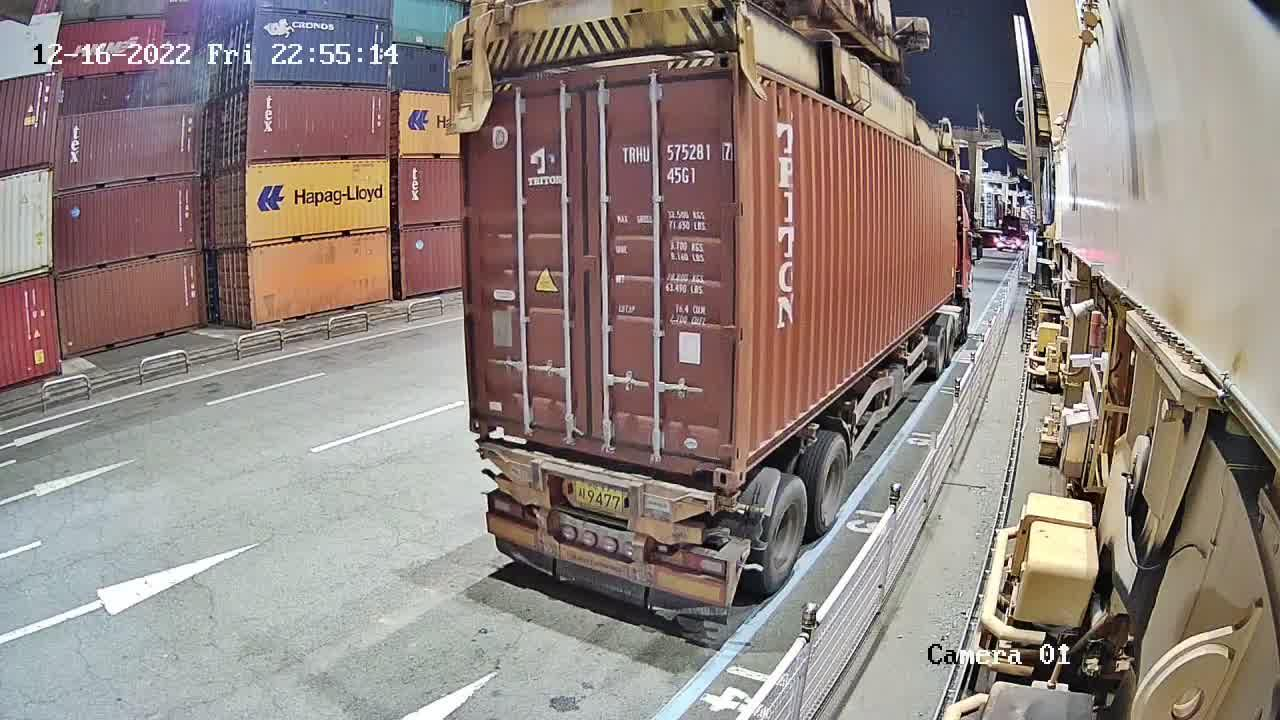Chassis: (470, 442, 738, 543)
Cone: (719, 491, 747, 511)
Container: (465, 399, 736, 493)
Hole_L: (467, 397, 506, 441), (734, 438, 764, 490)
Hole_R: (695, 445, 735, 488)
Tire: (765, 482, 805, 590), (818, 439, 848, 529)
